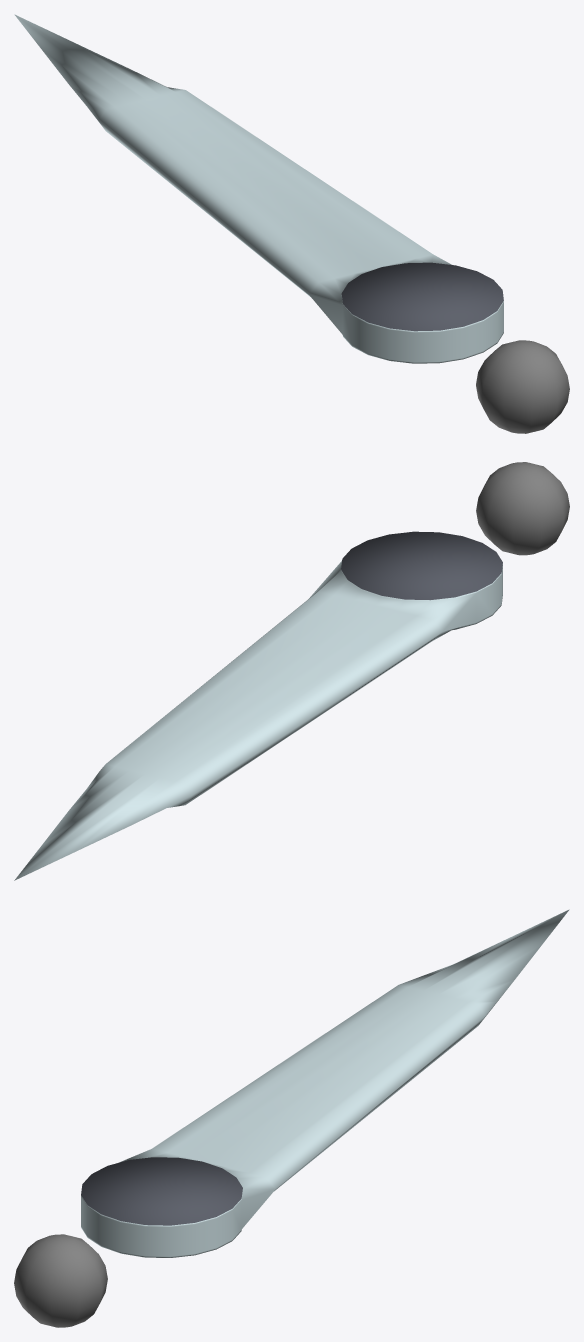
File: roundsword.fbx
3 views of the same model, one above another, from view 1: azimuth 30°, elevation 25°; view 2: azimuth 150°, elevation 25°; view 3: azimuth 330°, elevation 25° (orthographic).
Visible parts, largest first — view 1: round_sword; view 2: round_sword; view 3: round_sword.
Boxes of the visible parts, bbox=[...] form: round_sword: bbox=[14, 14, 569, 433]; round_sword: bbox=[14, 462, 569, 880]; round_sword: bbox=[14, 909, 569, 1327].
Size of the model in its own units: 0.3748 by 0.2173 by 2.44.
